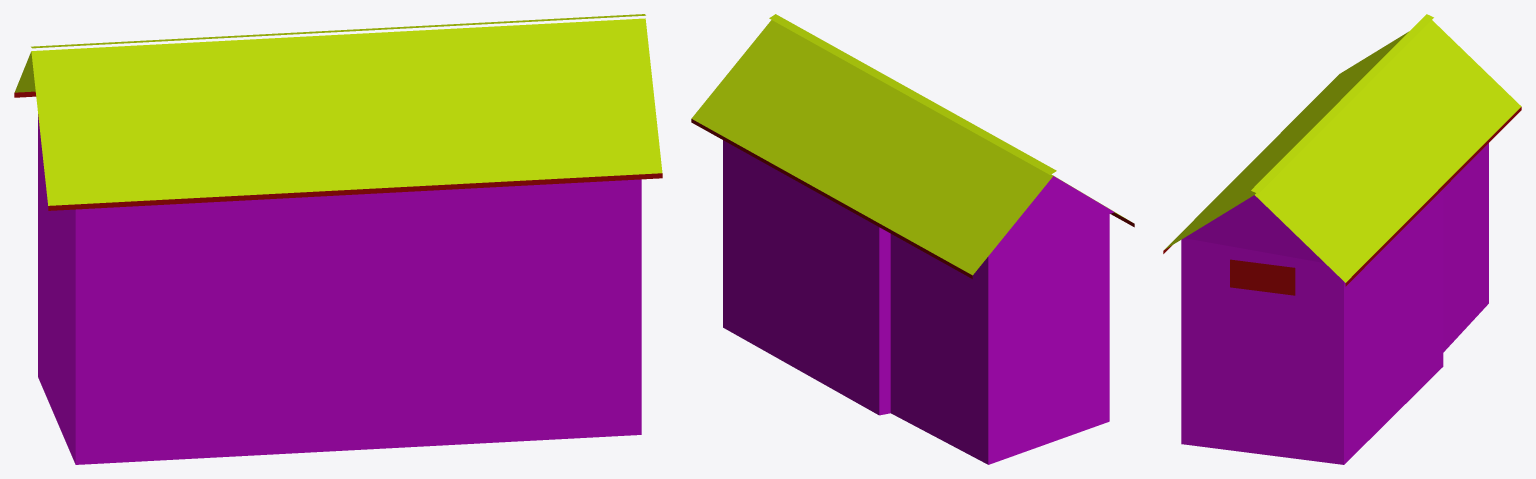
3 renders of one model, left to right at view 1: azimuth 30°, elevation 25°; view 2: azimuth 150°, elevation 25°; view 3: azimuth 270°, elevation 25°, orthographic. The views are drawn at different scales.
Visible parts, largest first — view 1: sc_86; view 2: sc_86; view 3: sc_86.
Part boxes in pixels (bbox=[...]): sc_86: bbox=[14, 14, 662, 464]; sc_86: bbox=[691, 14, 1134, 464]; sc_86: bbox=[1163, 14, 1521, 464].
Size of the model in its own units: 14.47 by 8.79 by 10.48.
